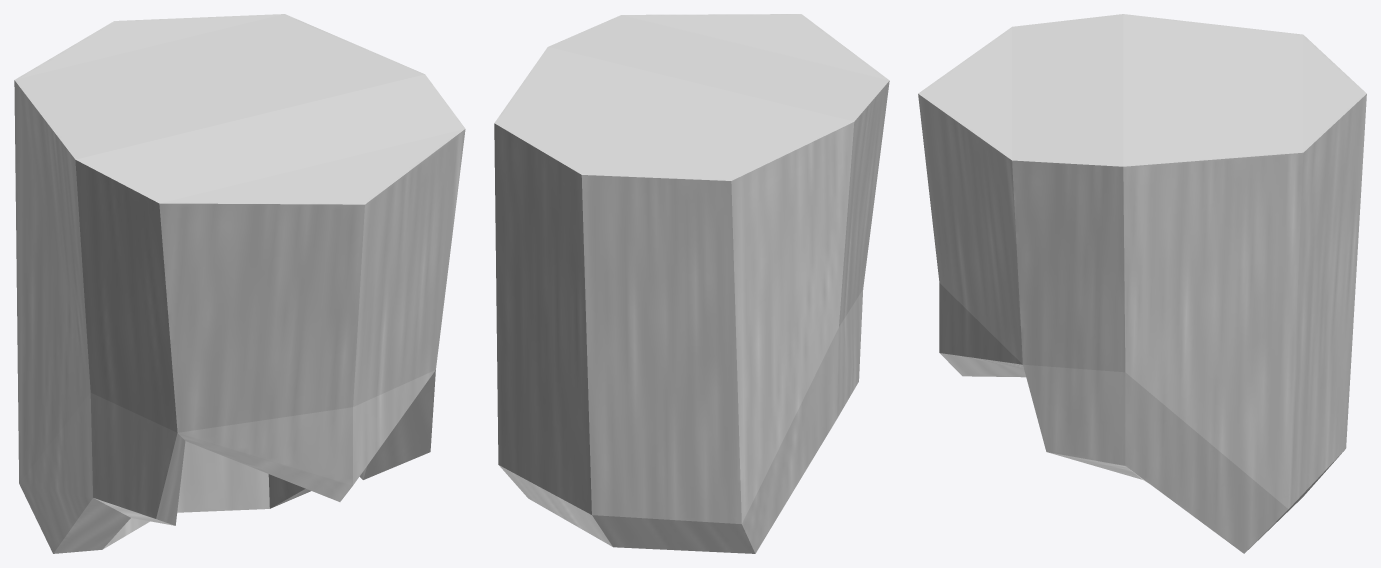
The model's file is slim_jim.glb.
3 views of the same model, side by side, from view 1: azimuth 30°, elevation 25°; view 2: azimuth 150°, elevation 25°; view 3: azimuth 270°, elevation 25° (orthographic). The views are drawn at different scales.
Parts seen in each view (by area): view 1: Slim Jim; view 2: Slim Jim; view 3: Slim Jim.
Boxes of the visible parts, bbox=[...] form: Slim Jim: bbox=[14, 14, 465, 553]; Slim Jim: bbox=[494, 14, 889, 553]; Slim Jim: bbox=[918, 14, 1366, 553].
Bounding box in the file's own units: 0.218 × 0.2736 × 0.2708.
Materials: 1 (1 with a texture image).
